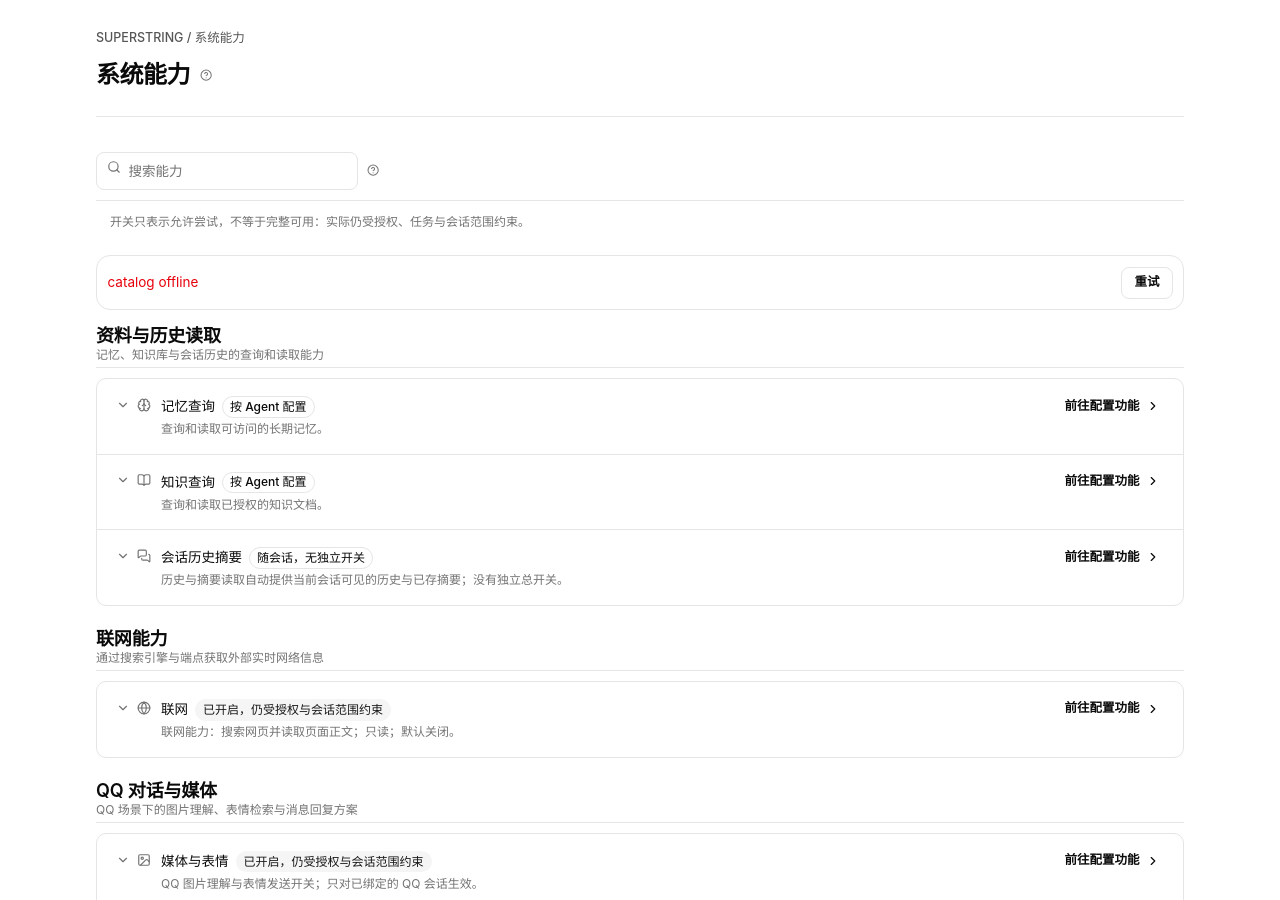
5 Function Groups in Capabilities Workspace › keeps catalog failures visible when a search has no match and retries the shared read
The image size is (1280, 900).
In the field named "搜索能力、关键词或技术名": (227,170) [96,152,358,190], type "unmatched-component"
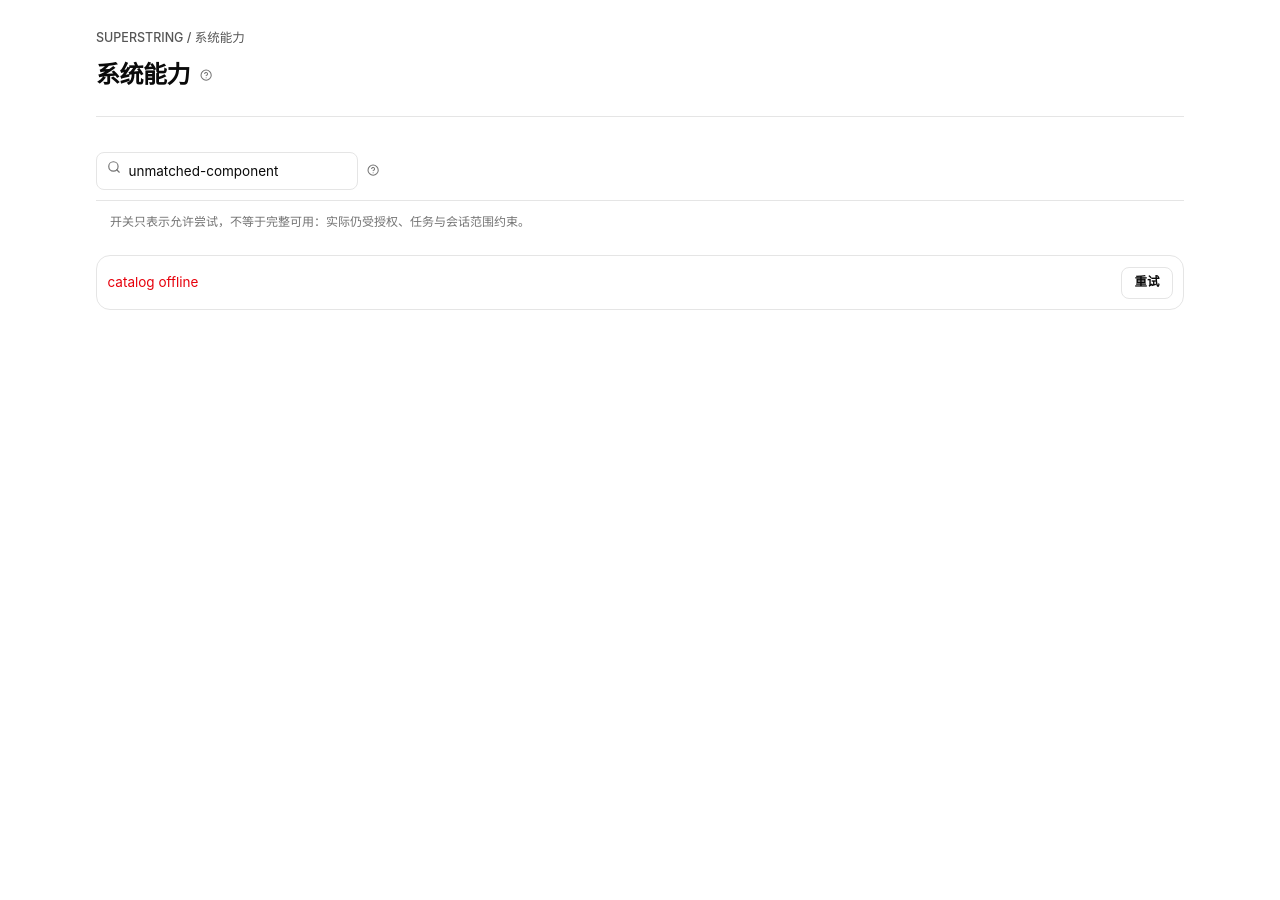
Expected: the message reads "catalog offline", [108,274,198,290]
Expected: the text "没有匹配的能力" is not shown
Click the button "重试": (1147,282) [1122,266,1172,298]
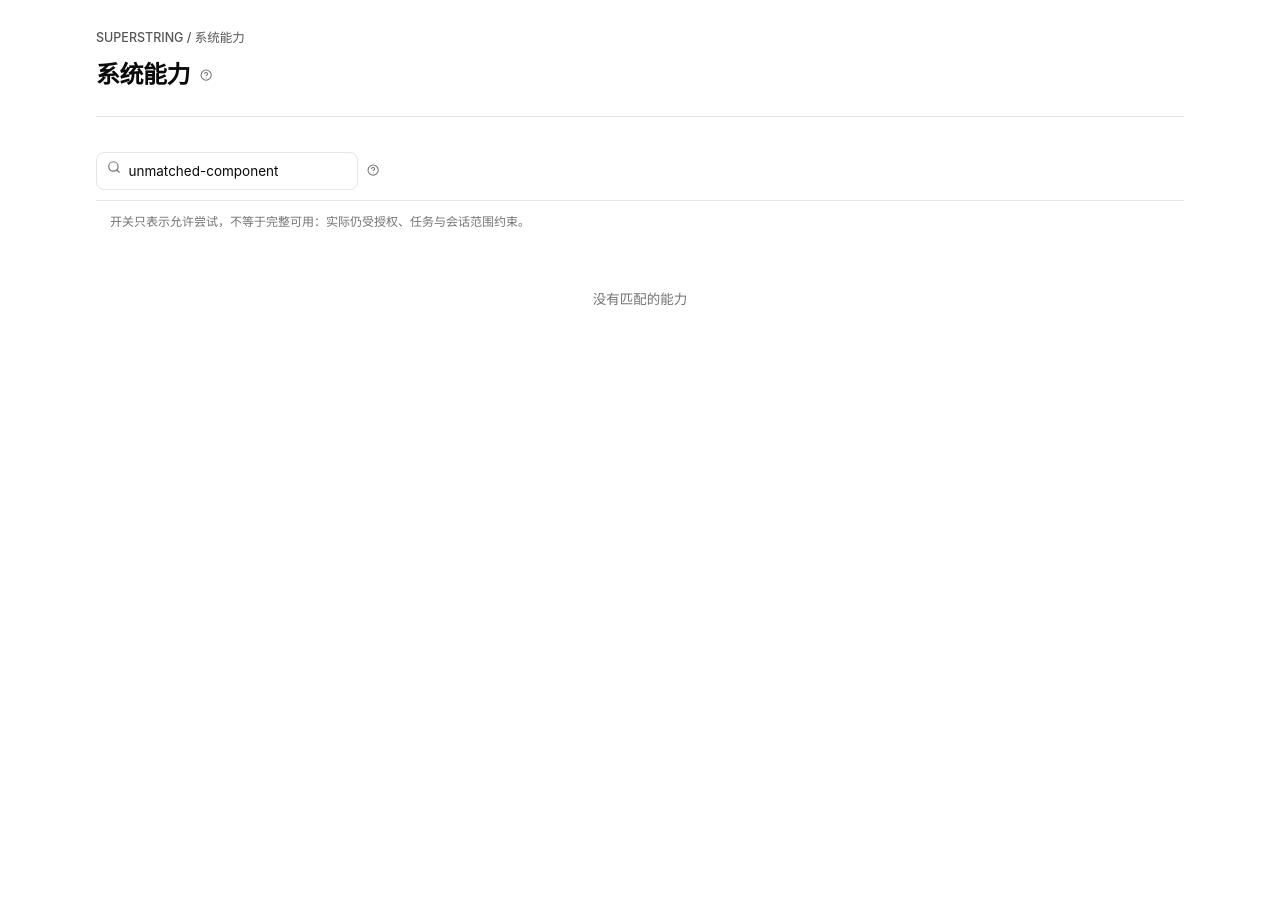
Result: the message "catalog offline" is gone
Result: the text "没有匹配的能力" is shown at [593,291,687,307]
